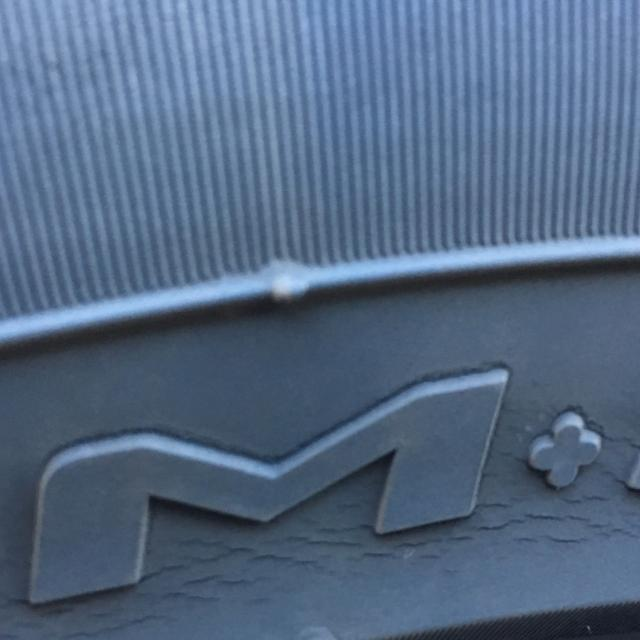Cracks: (0, 375, 640, 640)
